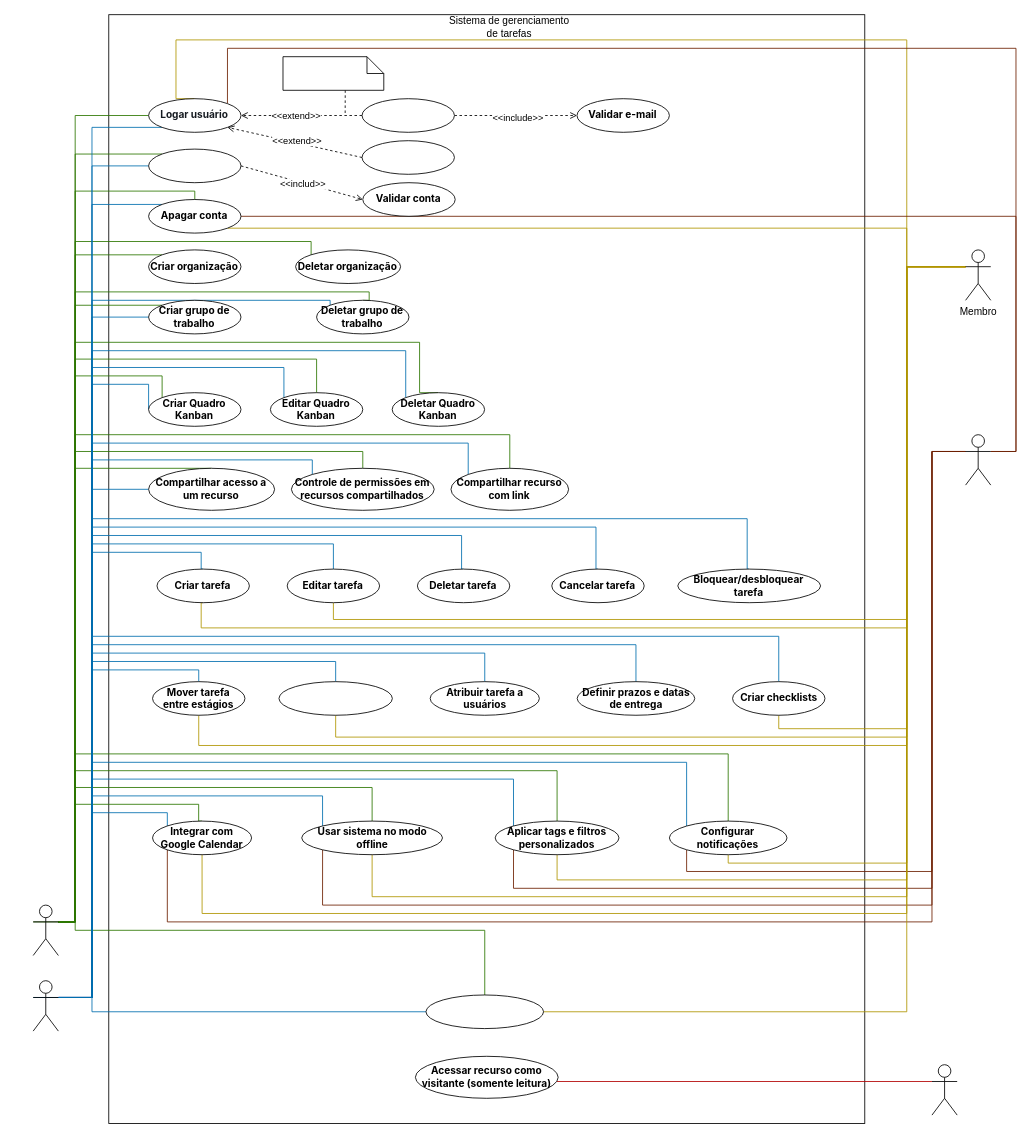
Some shapes in this 1032 by 1147 pixel diagram are drawn without their labels. The centre of each missing label's shape, as x and y in pixels:
Administrador: the point at 45,930
Cadastrar usuário: the point at 407,115
Caso não haja registro no sistema: the point at 333,73
Convidado: the point at 978,459
Deletar usuário: the point at 194,165
Inserir comentários e menções: the point at 335,698
Líder: the point at 45,1005
Recuperar senha: the point at 407,157
Visitante: the point at 944,1089
Visualizar Dashboard de desempenho: the point at 484,1011
